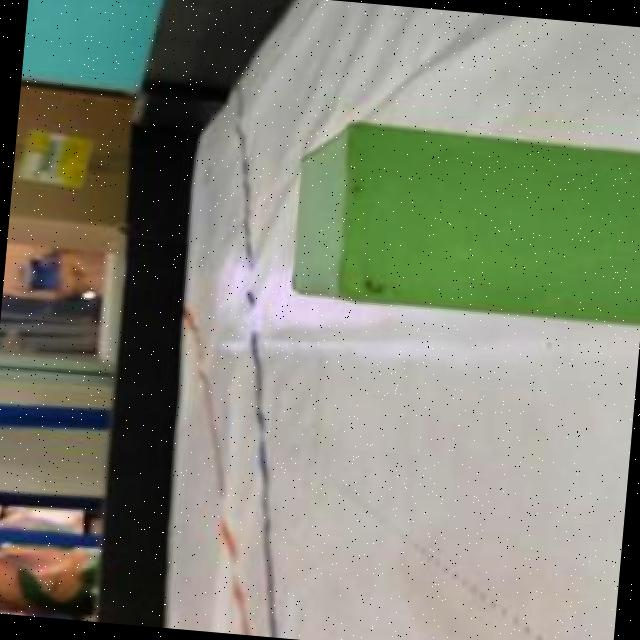greenbox: (279, 116, 640, 333)
